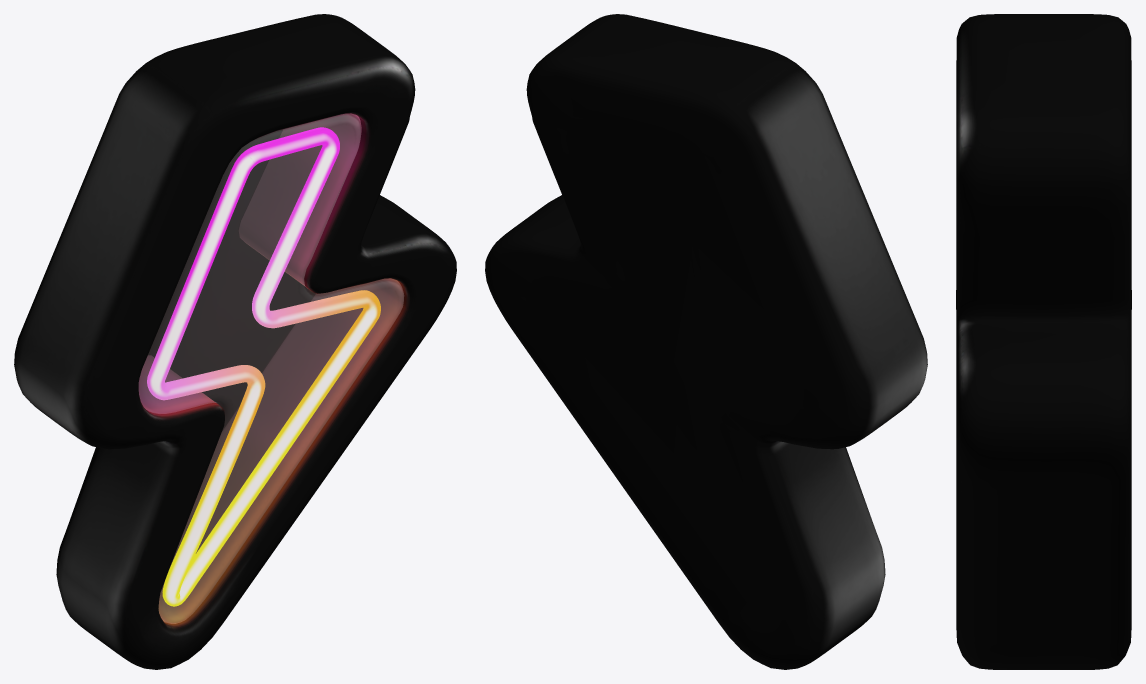
The model's file is Black_XP_3.glb.
3 renders of one model, left to right at view 1: azimuth 30°, elevation 25°; view 2: azimuth 150°, elevation 25°; view 3: azimuth 270°, elevation 25°, orthographic. The views are drawn at different scales.
Visible parts, largest first — view 1: мат.001, мат.003, мат.002; view 2: мат.001; view 3: мат.001.
Boxes of the visible parts, left/top/right/bottom form: мат.001: left=14, top=14, right=456, bottom=669; мат.003: left=139, top=113, right=403, bottom=623; мат.002: left=147, top=127, right=380, bottom=606; мат.001: left=485, top=14, right=927, bottom=669; мат.001: left=956, top=14, right=1131, bottom=669.
Size of the model in its own units: 0.0768 by 0.1071 by 0.025.
Materials: 3 (3 with a texture image).
